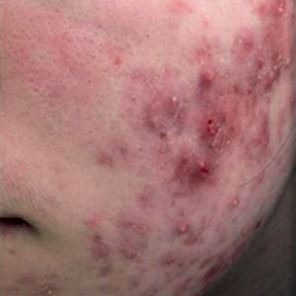Acne: (196, 106, 229, 143), (188, 153, 217, 182), (164, 90, 187, 112), (225, 188, 244, 212), (174, 218, 193, 240)
